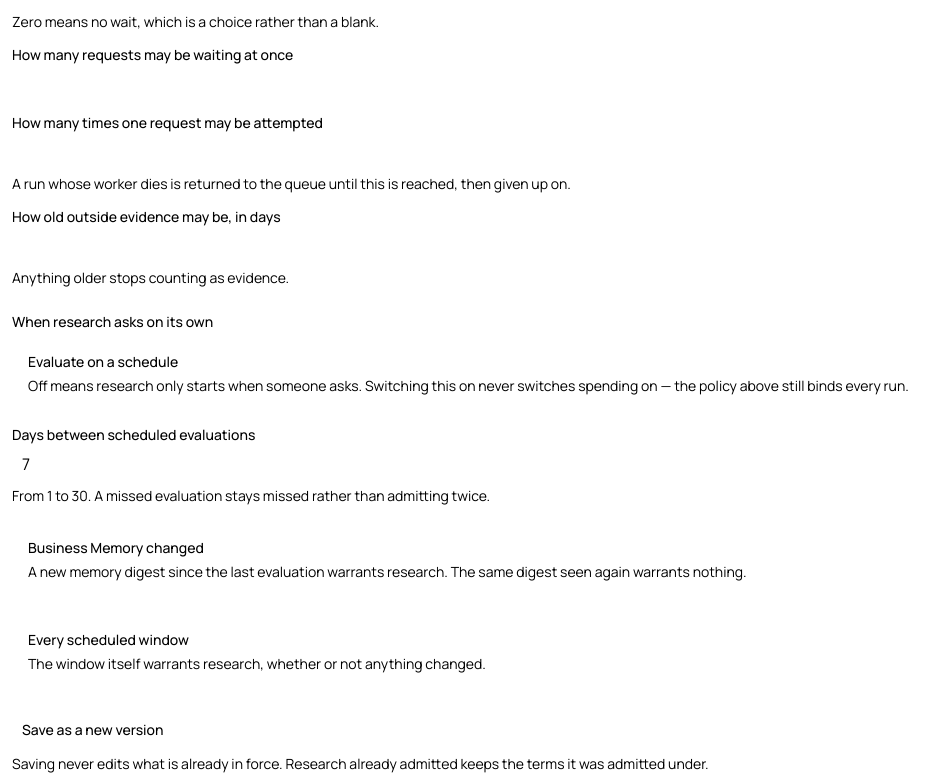
Scenario: setting what research may spend › refuses to save while any figure is missing
(page scrolled)
What coordinates should you click on to do the following:
click the button "Save as a new version"
I would click on:
 (93, 730)
Its box is [12, 714, 173, 746].
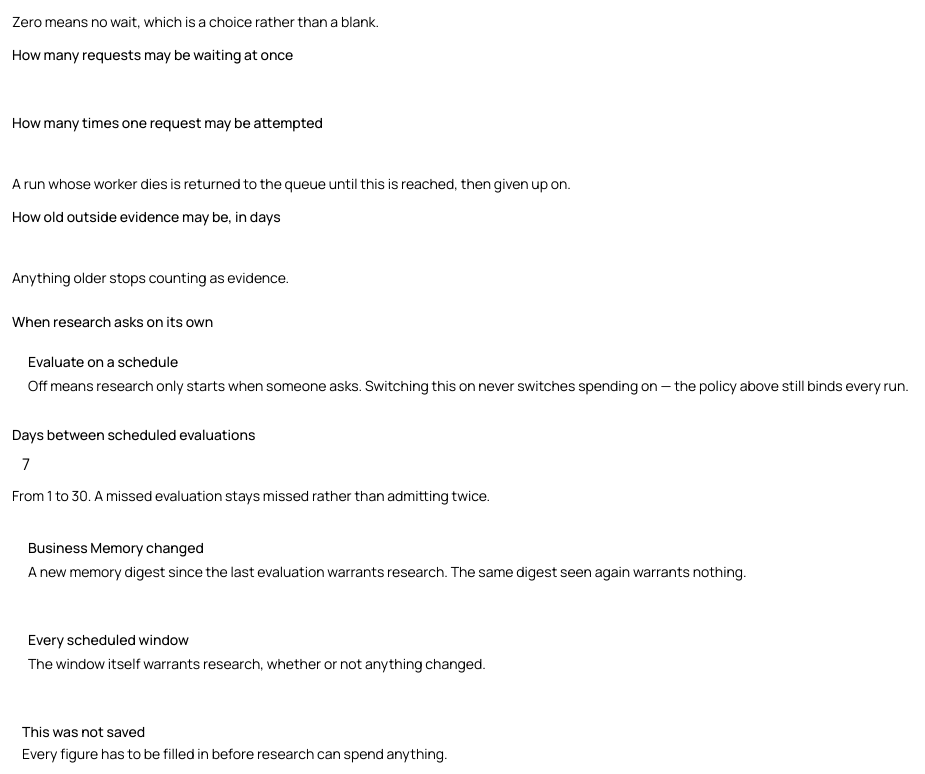
Result: the message shows "Every figure has to be filled in" at [22, 744, 448, 763]
